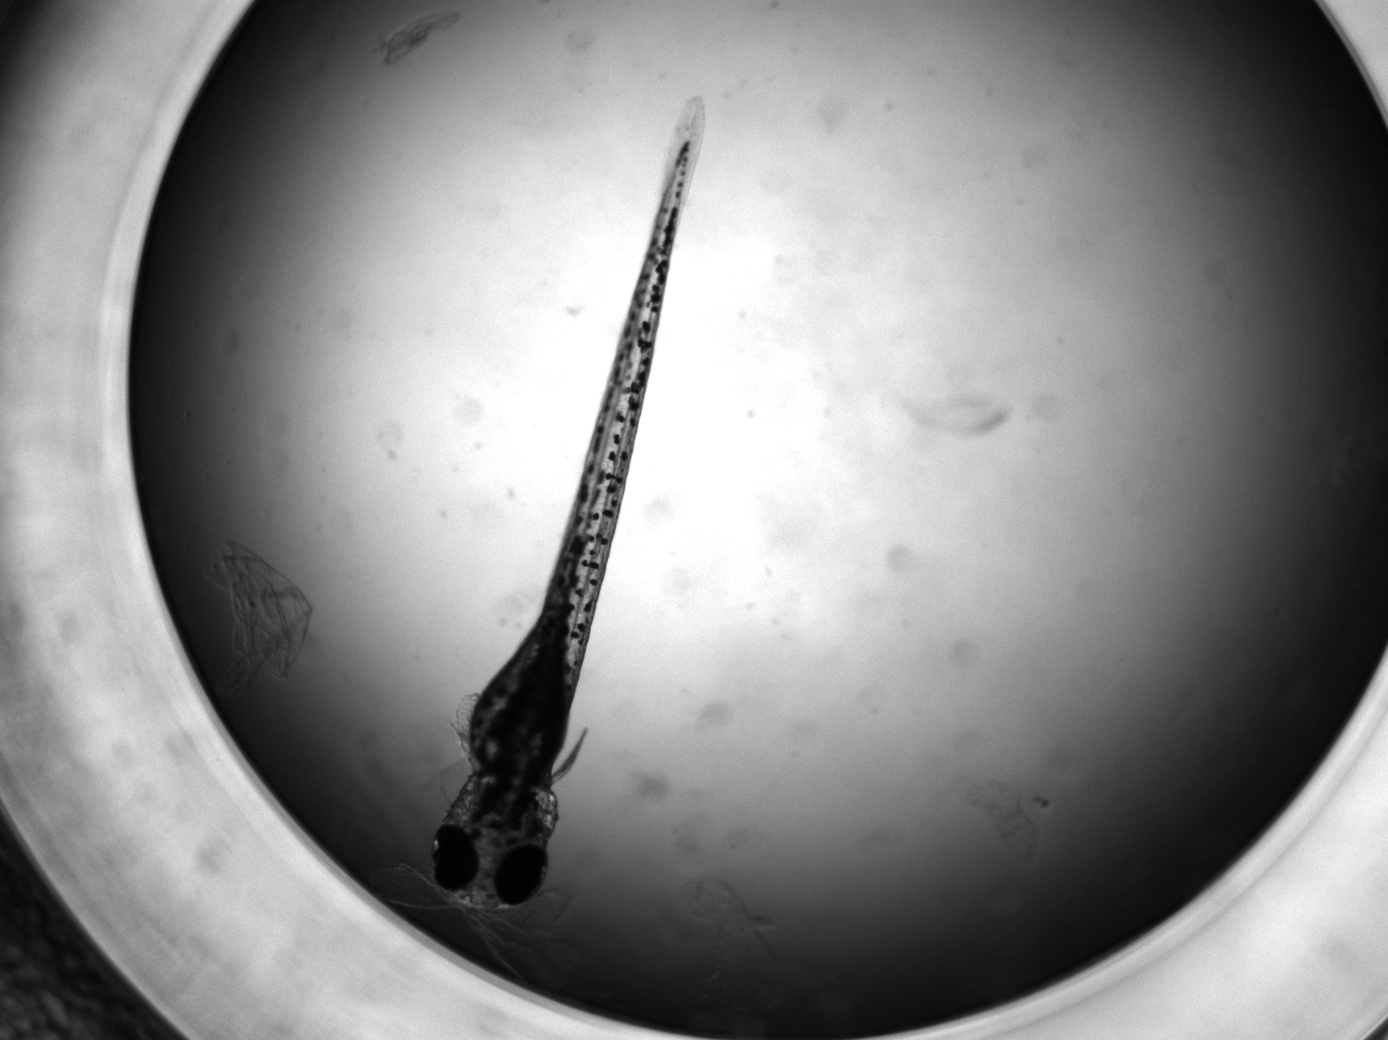debris: (197, 537, 315, 690)
embryo: (431, 138, 696, 911)
eye: (493, 842, 549, 905), (432, 823, 479, 891)
yolksac: (467, 619, 590, 775)
